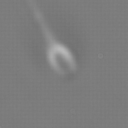normal: (24, 1, 54, 44)
